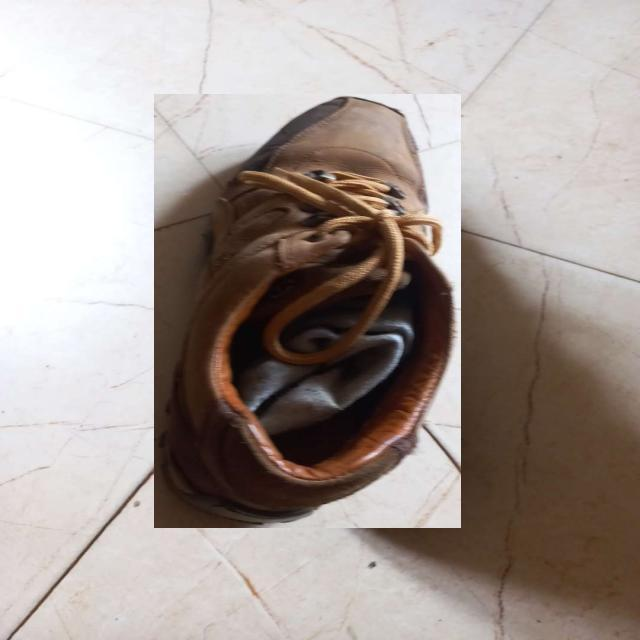shoe: (154, 94, 461, 528)
